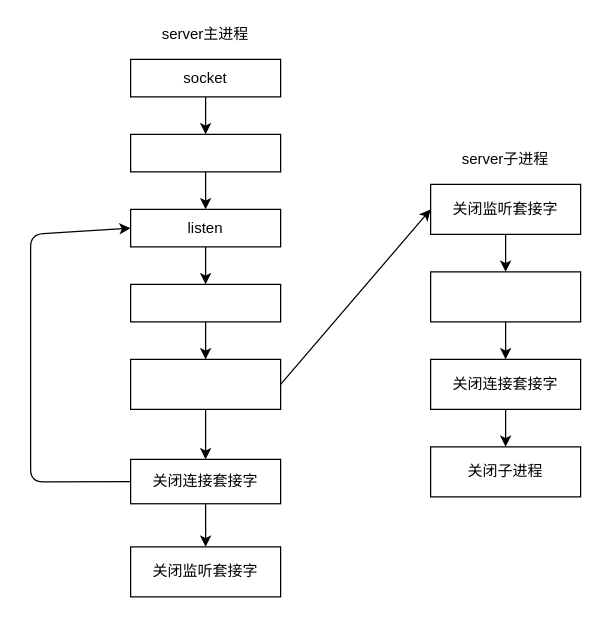
The diagram is 603 pixels wide and 619 high, and some of its shapes have lost their labels. Here are the shapes that lost their labels. From the top down, the centre of each, then its label:
At point (205, 152): "bind".
At point (205, 302): "accept".
At point (505, 296): "处理连接".
At point (205, 383): "创建子进程".
